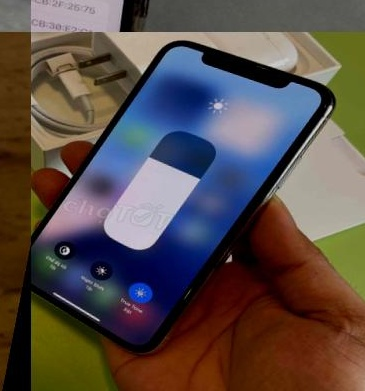screen_defect: (31, 0, 51, 32)
